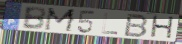5: (76, 10, 96, 34)
B: (122, 13, 150, 38), (21, 7, 47, 31)
H: (149, 14, 176, 41)
L: (100, 12, 119, 35)
M: (43, 7, 78, 33)
